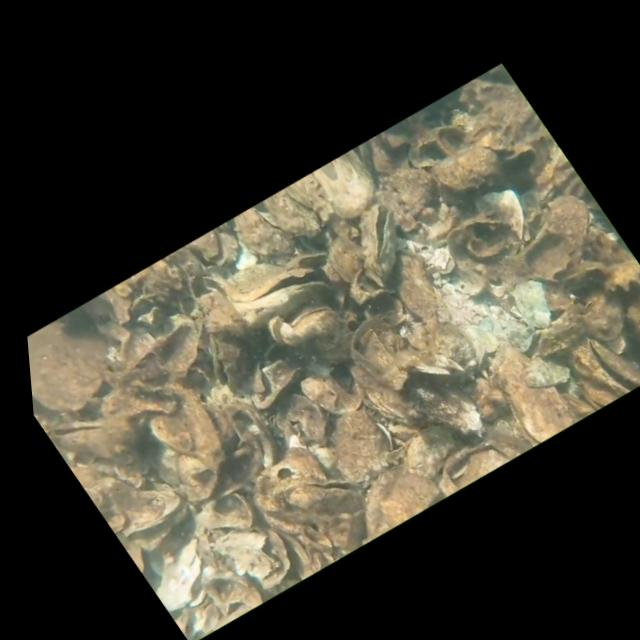Oyster-Closed: (346, 319, 498, 479), (474, 334, 583, 455), (227, 249, 340, 348), (518, 181, 618, 282), (257, 281, 352, 368)
Oyster-Indeterminate: (129, 368, 244, 492), (25, 302, 128, 431), (333, 446, 452, 552), (309, 395, 406, 493), (373, 237, 461, 333), (425, 126, 514, 209), (305, 144, 387, 228), (225, 194, 305, 278), (293, 355, 368, 431), (258, 178, 330, 254), (280, 166, 344, 233)
Oyster-Open: (95, 459, 204, 564), (266, 441, 372, 543), (41, 387, 145, 486), (335, 195, 426, 292), (189, 318, 267, 402), (570, 316, 640, 405), (608, 276, 640, 375)
